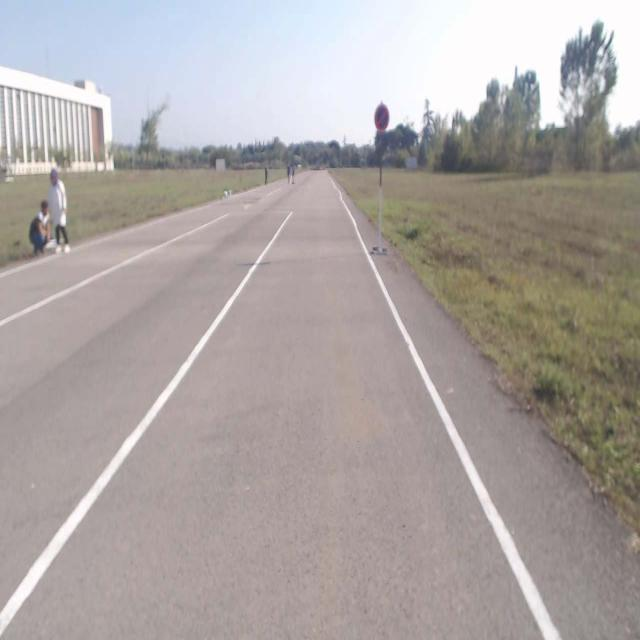parkyasak: (374, 105, 389, 130)
